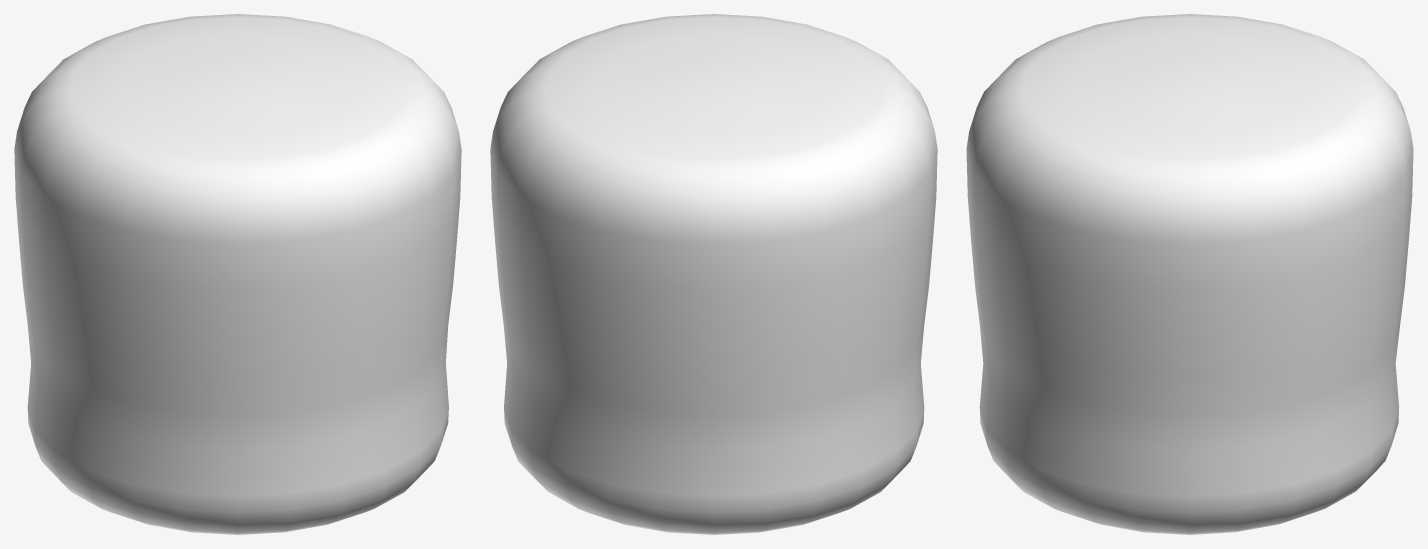
The model's file is MM01_Blank.fbx.
3 renders of one model, left to right at view 1: azimuth 30°, elevation 25°; view 2: azimuth 150°, elevation 25°; view 3: azimuth 270°, elevation 25°, orthographic.
Parts seen in each view (by area): view 1: Body; view 2: Body; view 3: Body.
Boxes of the visible parts, x1,y1,x2,y2 form: Body: (14, 14, 461, 534); Body: (490, 14, 937, 534); Body: (966, 14, 1413, 534).
Size of the model in its own units: 20.5 by 19.62 by 20.5.
